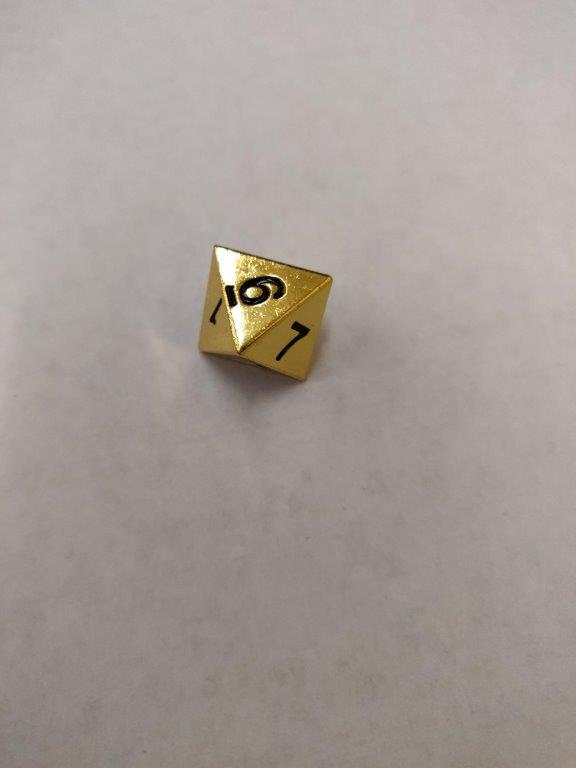d8-6: (193, 242, 336, 385)
